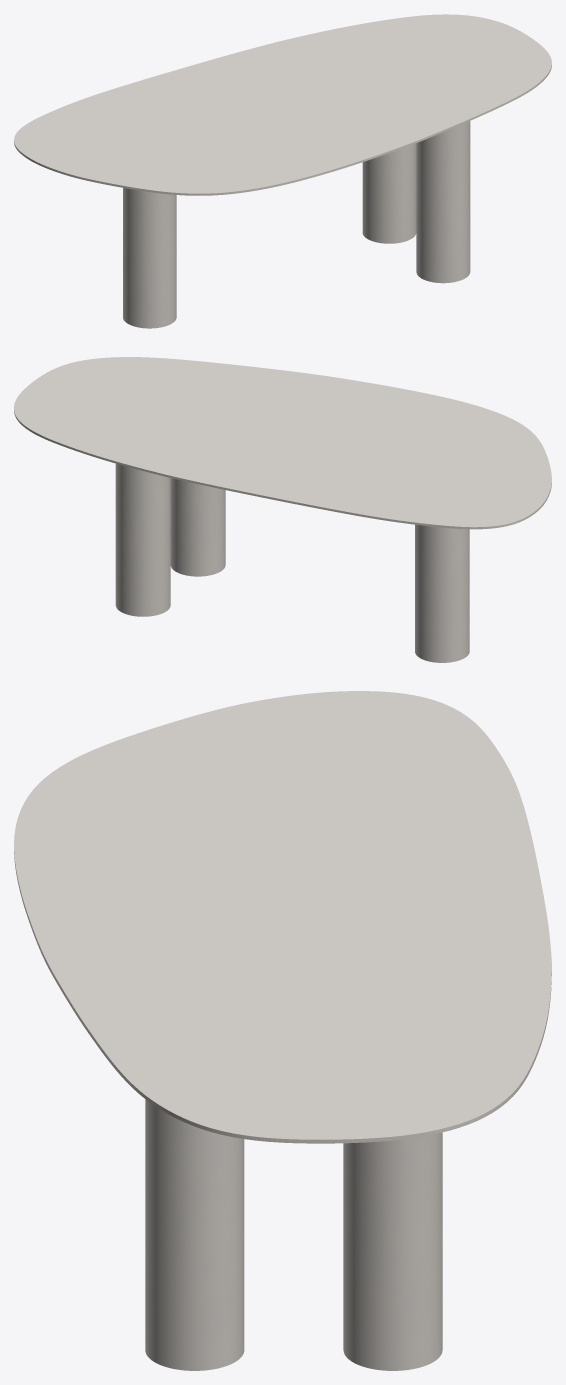
The model's file is pearlwhite_leaf2_facet_cylinder.glb.
The picture shows the model from 3 angles, top to bottom: view 1: azimuth 30°, elevation 25°; view 2: azimuth 150°, elevation 25°; view 3: azimuth 270°, elevation 25°; orthographic projection. The views are drawn at different scales.
Parts seen in each view (by area): view 1: facet_leaf2, cylinder; view 2: facet_leaf2, cylinder; view 3: facet_leaf2, cylinder.
Boxes of the visible parts, x1,y1,x2,y2 form: facet_leaf2: (14,14,551,195); cylinder: (123,121,470,328); facet_leaf2: (14,357,551,529); cylinder: (115,463,469,662); facet_leaf2: (14,691,551,1143); cylinder: (145,1099,442,1370).
Bounding box in the file's own units: 7.5 × 2.52 × 3.8.
Materials: 1 (1 with a texture image).
